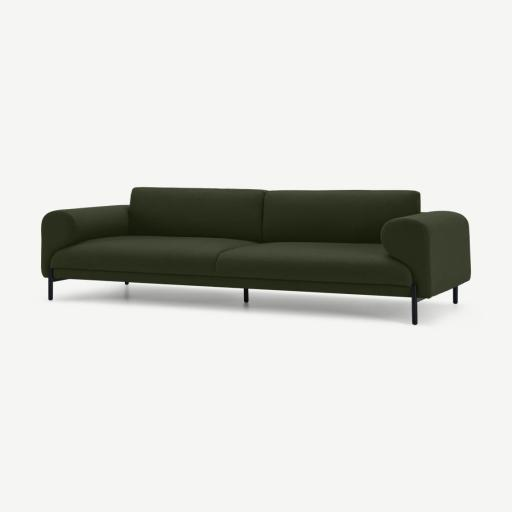back_cushion: (130, 188, 419, 242)
left_arm: (381, 211, 470, 298)
legs: (48, 268, 66, 300), (412, 286, 424, 325), (243, 288, 248, 303), (453, 287, 457, 303)
right_arm: (41, 205, 129, 277)
seat_cushion: (53, 236, 410, 285)
two-seater: (0, 0, 511, 512)
